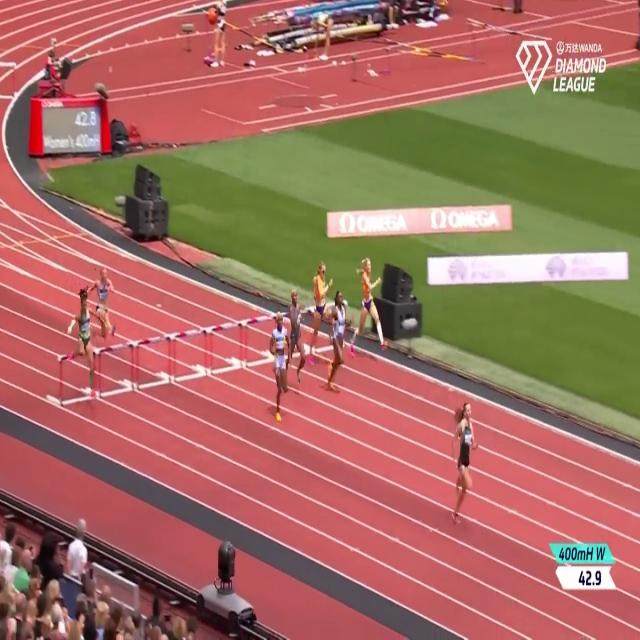athlete: (352, 251, 389, 358), (446, 399, 474, 538), (67, 284, 100, 393), (306, 254, 332, 364), (267, 311, 290, 424), (287, 283, 308, 391), (89, 266, 118, 338), (330, 288, 348, 391)
hurdle: (54, 342, 99, 415), (173, 324, 209, 385), (138, 334, 174, 394), (99, 342, 135, 399), (210, 320, 243, 376), (246, 308, 276, 369)
